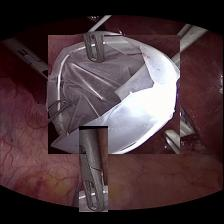Grasper: (8, 36, 75, 91), (162, 17, 215, 66), (79, 125, 108, 211)
Specimen Bag: (48, 34, 180, 153)
